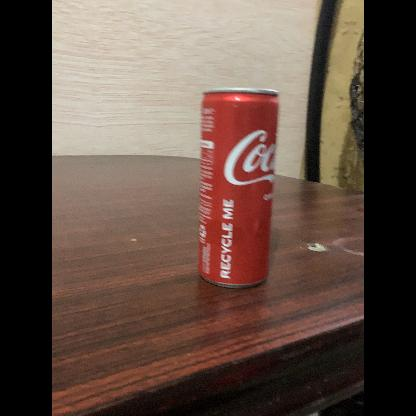Tin_Can: (188, 80, 284, 302)
